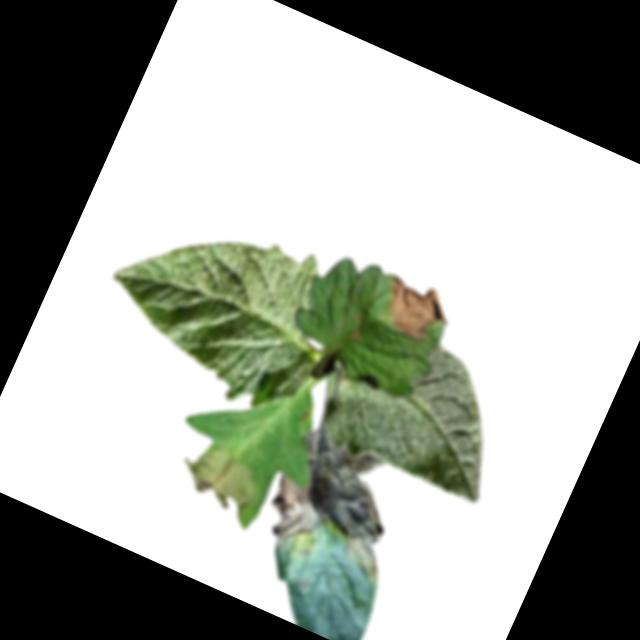Late_blight: (250, 423, 424, 593), (167, 433, 269, 519), (374, 271, 458, 350)
healthy: (84, 181, 354, 427), (312, 311, 530, 507)
